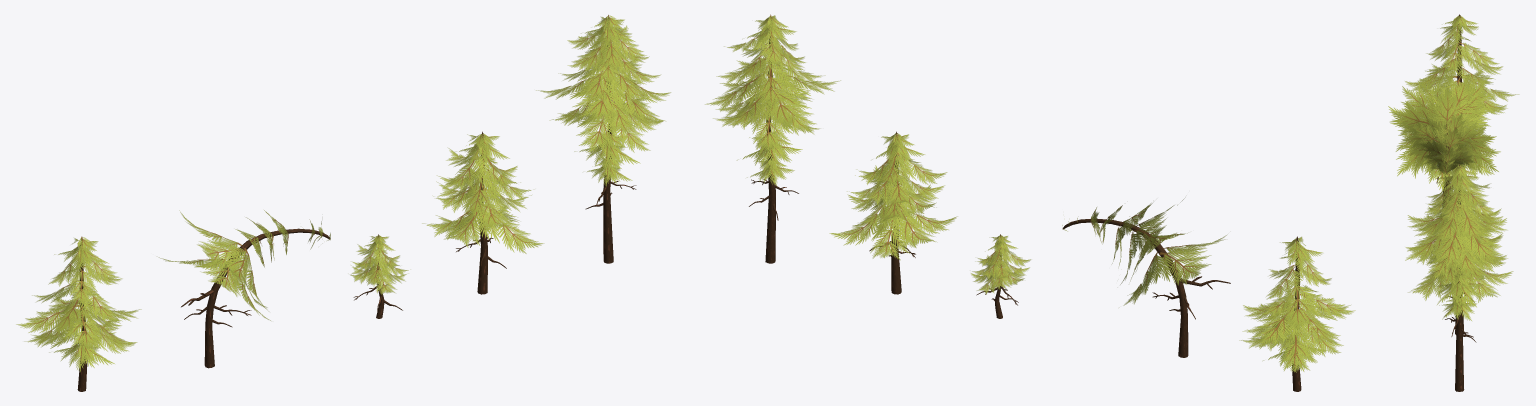
File: pines.glb
3 renders of one model, left to right at view 1: azimuth 30°, elevation 25°; view 2: azimuth 150°, elevation 25°; view 3: azimuth 270°, elevation 25°, orthographic. The views are drawn at different scales.
Parts seen in each view (by area): view 1: PineTree_2, PineTree_5, PineTree_1, PineTree_4, PineTree_3; view 2: PineTree_2, PineTree_1, PineTree_5, PineTree_4, PineTree_3; view 3: PineTree_2, PineTree_4, PineTree_5, PineTree_1.
Part boxes in pixels (x1,y1,x2,y2): PineTree_2: (536, 15, 670, 263); PineTree_5: (16, 236, 141, 391); PineTree_1: (422, 131, 543, 294); PineTree_4: (159, 210, 330, 368); PineTree_3: (350, 234, 408, 318); PineTree_2: (705, 14, 840, 263); PineTree_1: (829, 131, 957, 294); PineTree_5: (1239, 236, 1355, 391); PineTree_4: (1062, 198, 1230, 357); PineTree_3: (971, 234, 1031, 318); PineTree_2: (1405, 164, 1507, 391); PineTree_4: (1388, 73, 1500, 208); PineTree_5: (1405, 14, 1519, 128); PineTree_1: (1408, 192, 1513, 334).
Size of the model in its own units: 18.69 by 6.92 by 3.74.
Materials: 2 (2 with a texture image).
